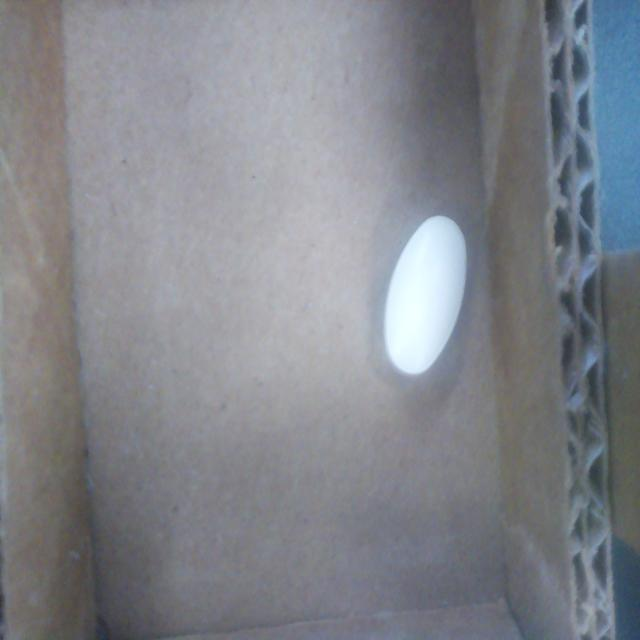pill: (383, 215, 466, 376)
